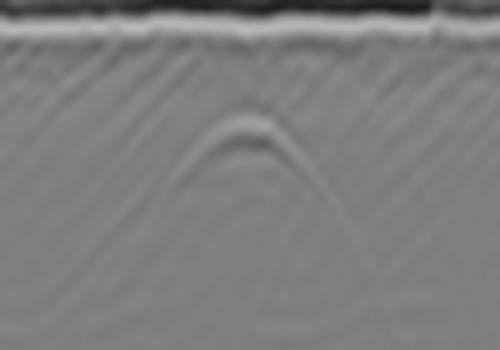hyperbola: (172, 105, 331, 227)
